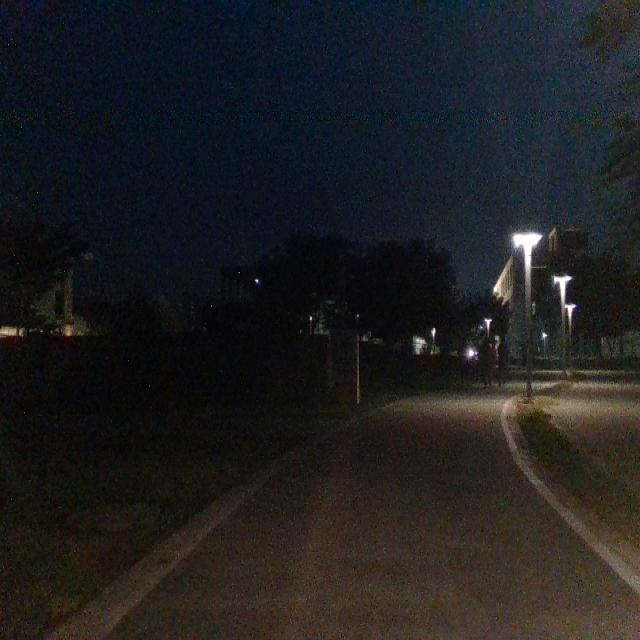lane: (105, 399, 640, 640)
